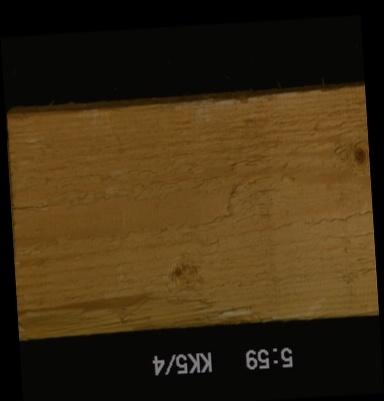small_knot: (160, 258, 204, 294)
sound_knot: (331, 130, 368, 175)
split: (10, 196, 64, 213)
wave: (17, 291, 267, 332)
